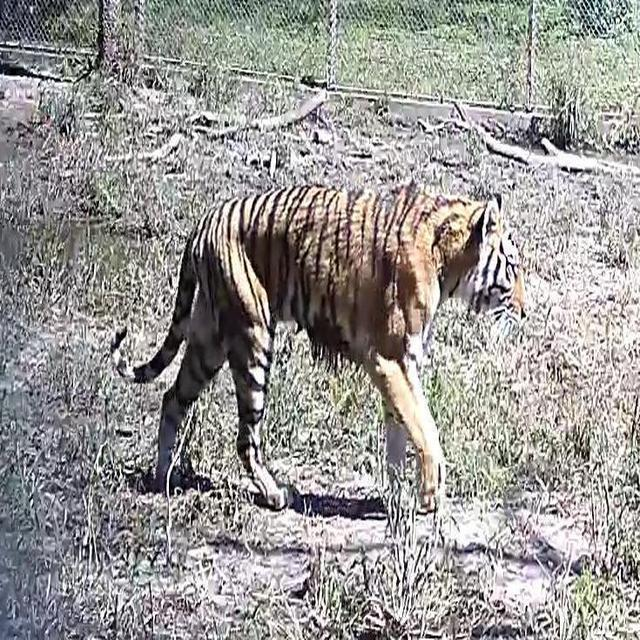tiger: (109, 179, 527, 517)
